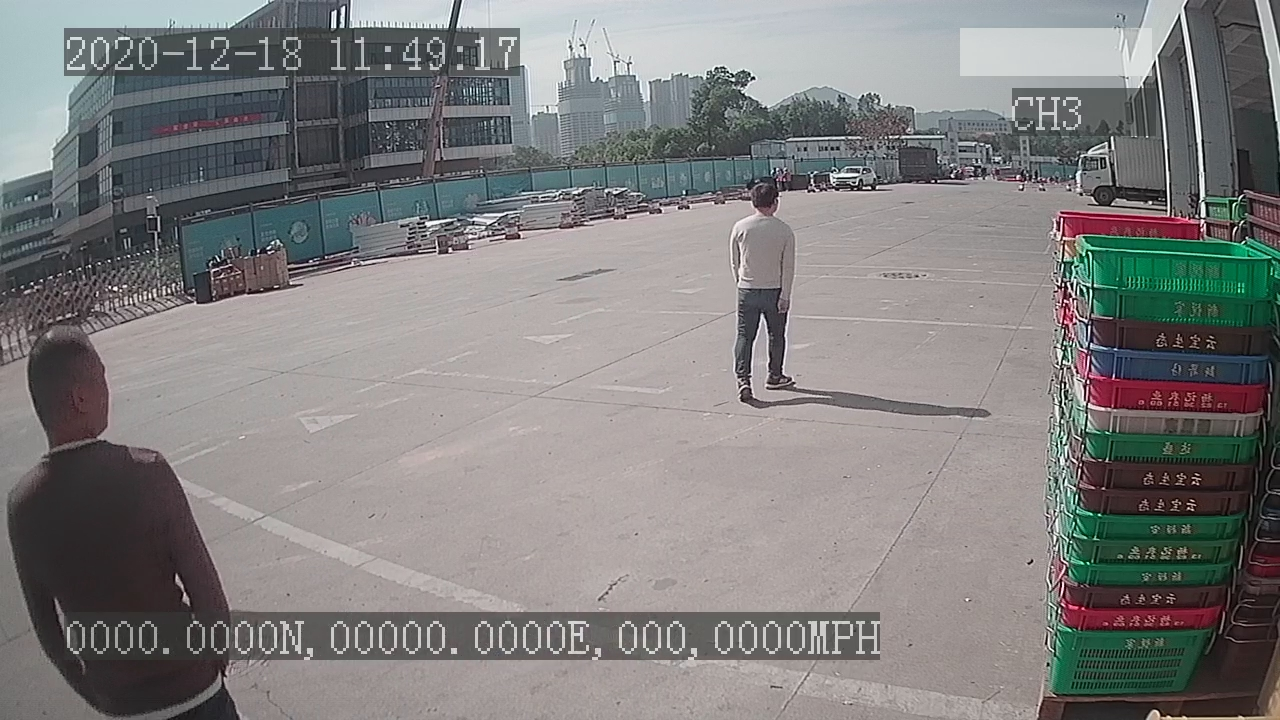person: (726, 177, 802, 408)
